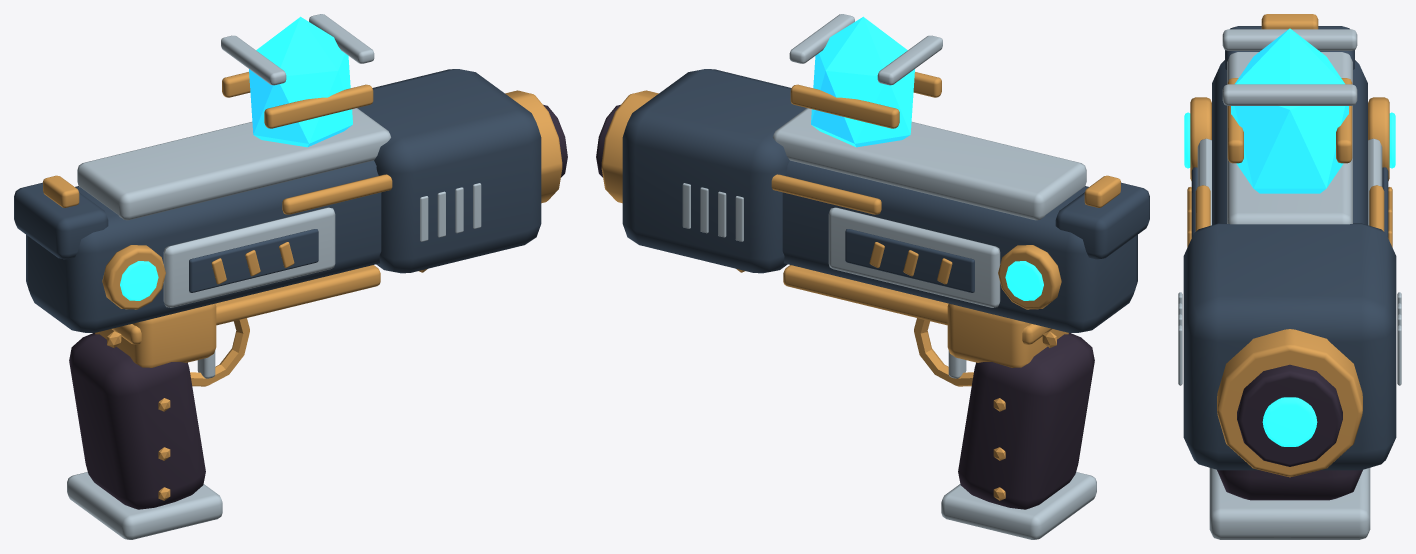
File: asset.glb
3 renders of one model, left to right at view 1: azimuth 30°, elevation 25°; view 2: azimuth 150°, elevation 25°; view 3: azimuth 270°, elevation 25°, orthographic. The views are drawn at different scales.
Visible parts, largest first — view 1: Emitter | faceted muzzle shroud, Receiver | forged central chassis, Grip | sculpted dark scales, Receiver | top spine, Arc crystal | primary focus, Receiver | side armor, Grip | heel cap, Grip | alloy neck, Rear | sight block, Receiver | lower rail, Side armor | inset enamel, Crystal cage | side rail (+8 smaller); view 2: Emitter | faceted muzzle shroud, Receiver | forged central chassis, Grip | sculpted dark scales, Receiver | top spine, Arc crystal | primary focus, Receiver | side armor.001, Grip | heel cap, Grip | alloy neck, Rear | sight block, Receiver | lower rail, Side armor | inset enamel.001, Crystal cage | side rail.001 (+8 smaller); view 3: Emitter | faceted muzzle shroud, Arc crystal | primary focus, Muzzle | outer bezel, Grip | heel cap, Receiver | top spine, Muzzle | dark aperture, Receiver | forged central chassis, Grip | sculpted dark scales, Crystal cage | cross clasp.001, Crystal cage | cross clasp, Muzzle | energized bore, Power dial | bezel (+15 smaller).
Part boxes in pixels (left/top/right/bottom): Emitter | faceted muzzle shroud: left=357, top=69, right=541, bottom=273; Receiver | forged central chassis: left=26, top=160, right=381, bottom=332; Grip | sculpted dark scales: left=69, top=333, right=205, bottom=509; Receiver | top spine: left=77, top=108, right=390, bottom=220; Arc crystal | primary focus: left=249, top=16, right=352, bottom=147; Receiver | side armor: left=163, top=207, right=335, bottom=307; Grip | heel cap: left=67, top=472, right=222, bottom=539; Grip | alloy neck: left=95, top=303, right=216, bottom=367; Rear | sight block: left=14, top=182, right=108, bottom=259; Receiver | lower rail: left=112, top=265, right=380, bottom=344; Side armor | inset enamel: left=189, top=229, right=318, bottom=292; Crystal cage | side rail: left=264, top=84, right=373, bottom=128; Emitter | faceted muzzle shroud: left=622, top=69, right=806, bottom=273; Receiver | forged central chassis: left=782, top=160, right=1137, bottom=332; Grip | sculpted dark scales: left=958, top=333, right=1094, bottom=509; Receiver | top spine: left=773, top=108, right=1086, bottom=220; Arc crystal | primary focus: left=811, top=16, right=914, bottom=147; Receiver | side armor.001: left=828, top=207, right=1000, bottom=307; Grip | heel cap: left=941, top=472, right=1096, bottom=539; Grip | alloy neck: left=947, top=303, right=1068, bottom=367; Rear | sight block: left=1055, top=182, right=1149, bottom=259; Receiver | lower rail: left=783, top=265, right=1051, bottom=344; Side armor | inset enamel.001: left=845, top=229, right=974, bottom=292; Crystal cage | side rail.001: left=790, top=84, right=899, bottom=128; Emitter | faceted muzzle shroud: left=1183, top=223, right=1396, bottom=470; Arc crystal | primary focus: left=1231, top=28, right=1348, bottom=193; Muzzle | outer bezel: left=1217, top=329, right=1362, bottom=477; Grip | heel cap: left=1209, top=468, right=1370, bottom=539; Receiver | top spine: left=1227, top=52, right=1352, bottom=224; Muzzle | dark aperture: left=1237, top=364, right=1342, bottom=466; Receiver | forged central chassis: left=1212, top=60, right=1367, bottom=224; Grip | sculpted dark scales: left=1217, top=470, right=1362, bottom=500; Crystal cage | cross clasp.001: left=1222, top=84, right=1357, bottom=105; Crystal cage | cross clasp: left=1222, top=29, right=1357, bottom=50; Muzzle | energized bore: left=1262, top=397, right=1317, bottom=446; Power dial | bezel: left=1190, top=97, right=1211, bottom=180.
Size of the model in its own units: 3.54 by 2.96 by 1.03.
